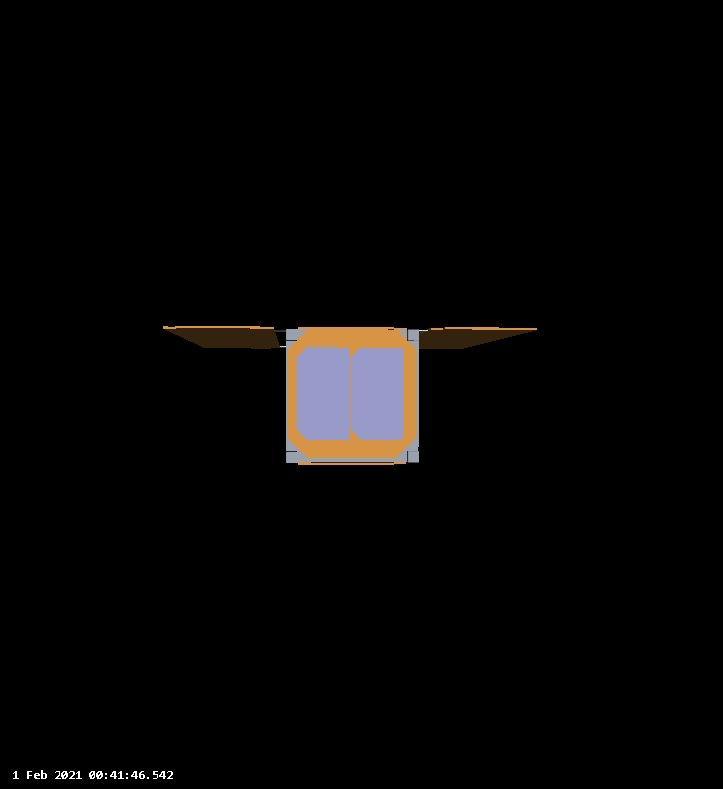body: (282, 323, 423, 467)
solar: (293, 343, 408, 446), (160, 323, 283, 352), (418, 325, 541, 353)
